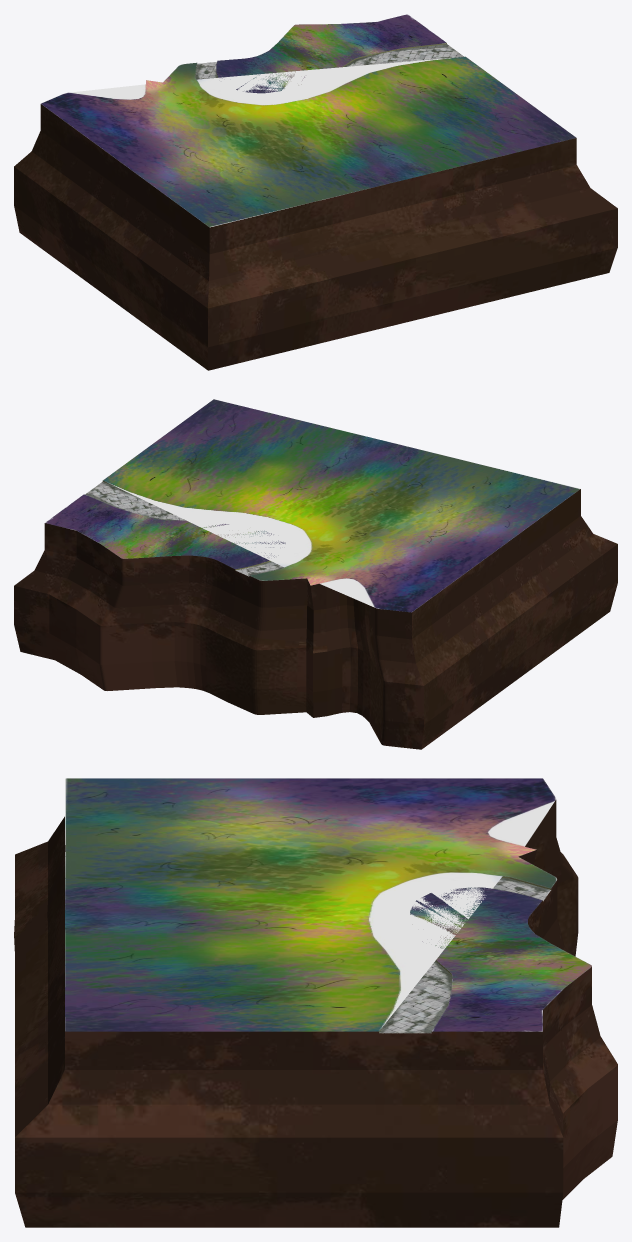
File: Main island.fbx
The picture shows the model from 3 angles, top to bottom: view 1: azimuth 30°, elevation 25°; view 2: azimuth 150°, elevation 25°; view 3: azimuth 270°, elevation 25°; orthographic projection. The views are drawn at different scales.
Parts seen in each view (by area): view 1: Large Island; view 2: Large Island; view 3: Large Island.
Part boxes in pixels (box(x1,y1,x2,y2)): Large Island: box(14, 14, 617, 370); Large Island: box(14, 399, 617, 749); Large Island: box(14, 778, 617, 1227).
Size of the model in its own units: 14835 by 4469 by 13377.
